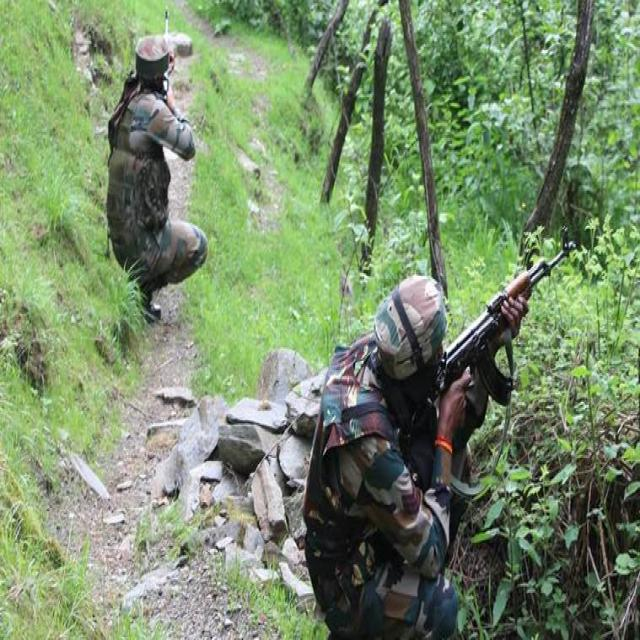Forest: (0, 1, 640, 640)
Militant: (290, 231, 493, 640), (100, 23, 216, 336)
